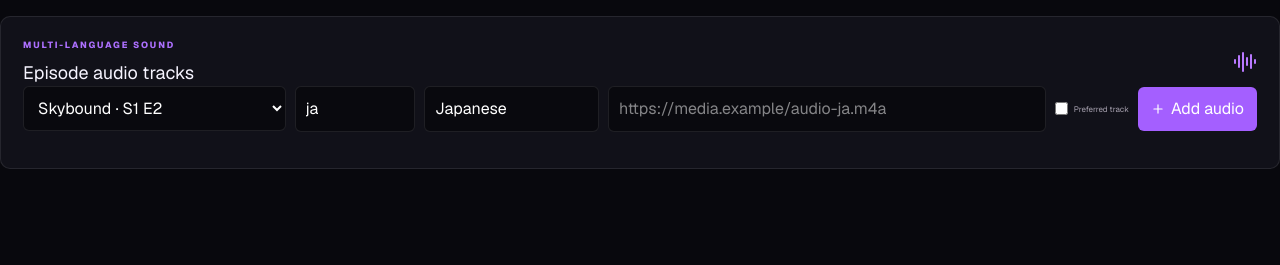
Test: AudioTrackManager › adds a secure alternate audio track
The width and height of the screenshot is (1280, 265).
Type "https://media.example/japanese.m4a" into the field named "Audio source URL".
click(827, 108); type("https://media.example/japanese.m4a")  # box 608,86 -> 1046,132
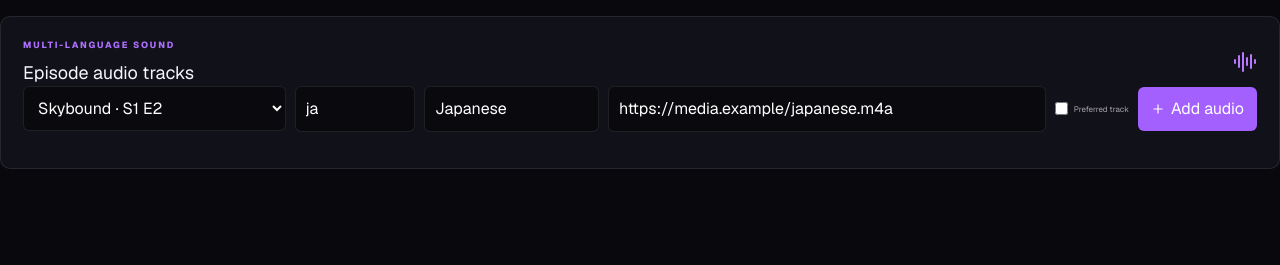
Click the button "Add audio".
click(1197, 108)  # box 1138,86 -> 1257,130
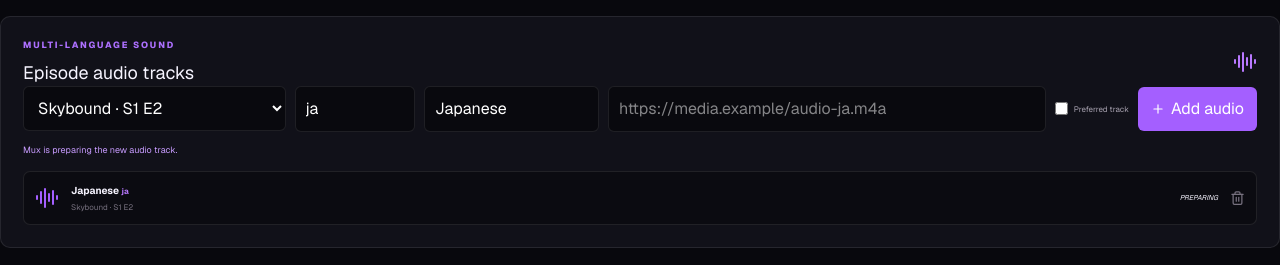
Expected: the text "Mux is preparing the new audio track." is shown, 23,144 -> 177,156
